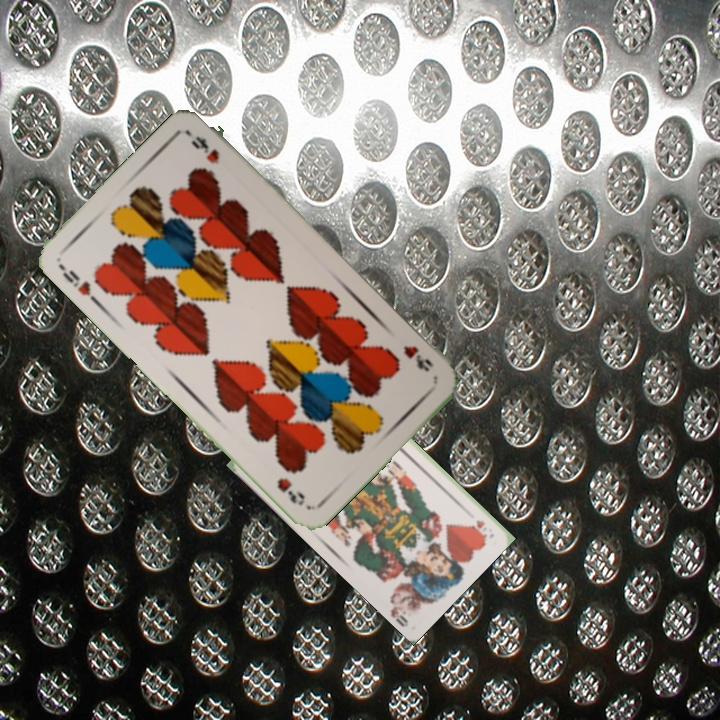H9: (58, 266, 101, 307), (399, 341, 436, 375)
HO: (469, 516, 490, 540)
